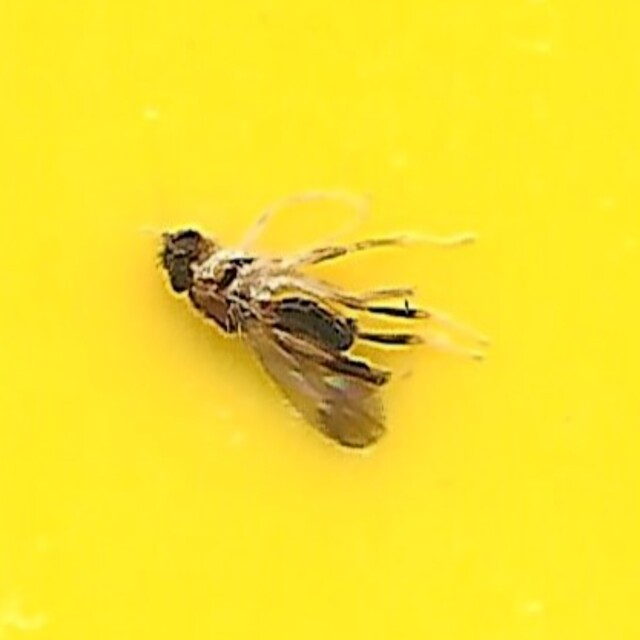Brachycera: (153, 188, 487, 452)
